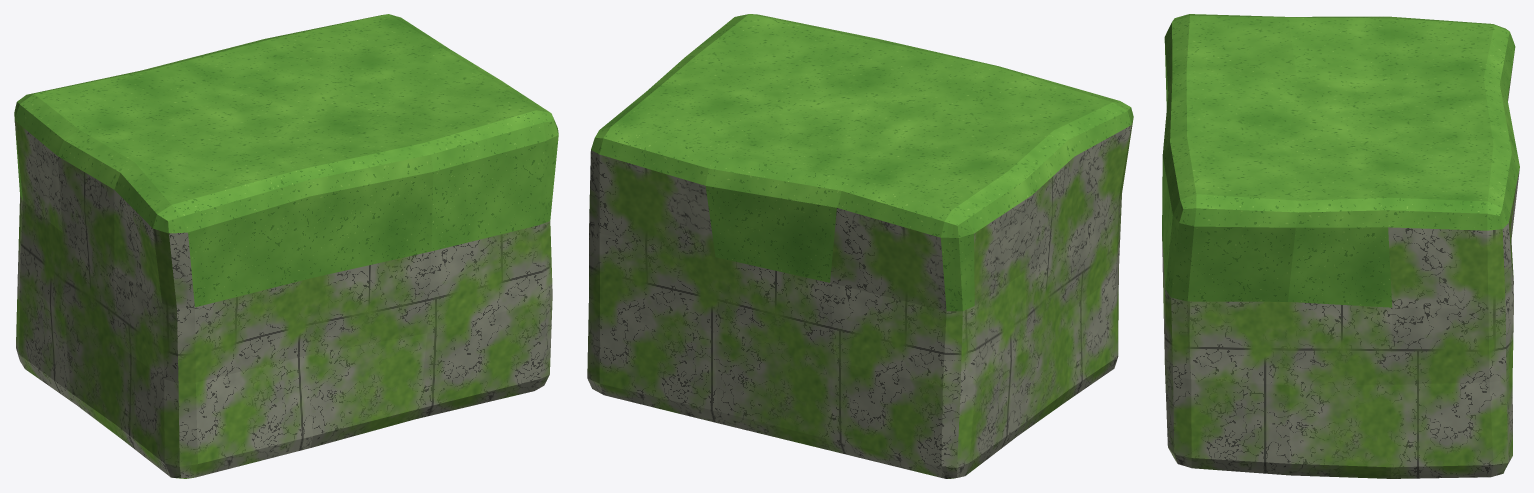
The model's file is CliffBlock_B.fbx.
The picture shows the model from 3 angles, left to right: view 1: azimuth 30°, elevation 25°; view 2: azimuth 150°, elevation 25°; view 3: azimuth 270°, elevation 25°; orthographic projection. The views are drawn at different scales.
Visible parts, largest first — view 1: CliffBlock_B.001; view 2: CliffBlock_B.001; view 3: CliffBlock_B.001.
Boxes of the visible parts, x1,y1,x2,y2 form: CliffBlock_B.001: (14, 14, 558, 478); CliffBlock_B.001: (587, 14, 1133, 478); CliffBlock_B.001: (1162, 14, 1519, 478).
Bounding box in the file's own units: 2.49 × 1.68 × 1.87.
